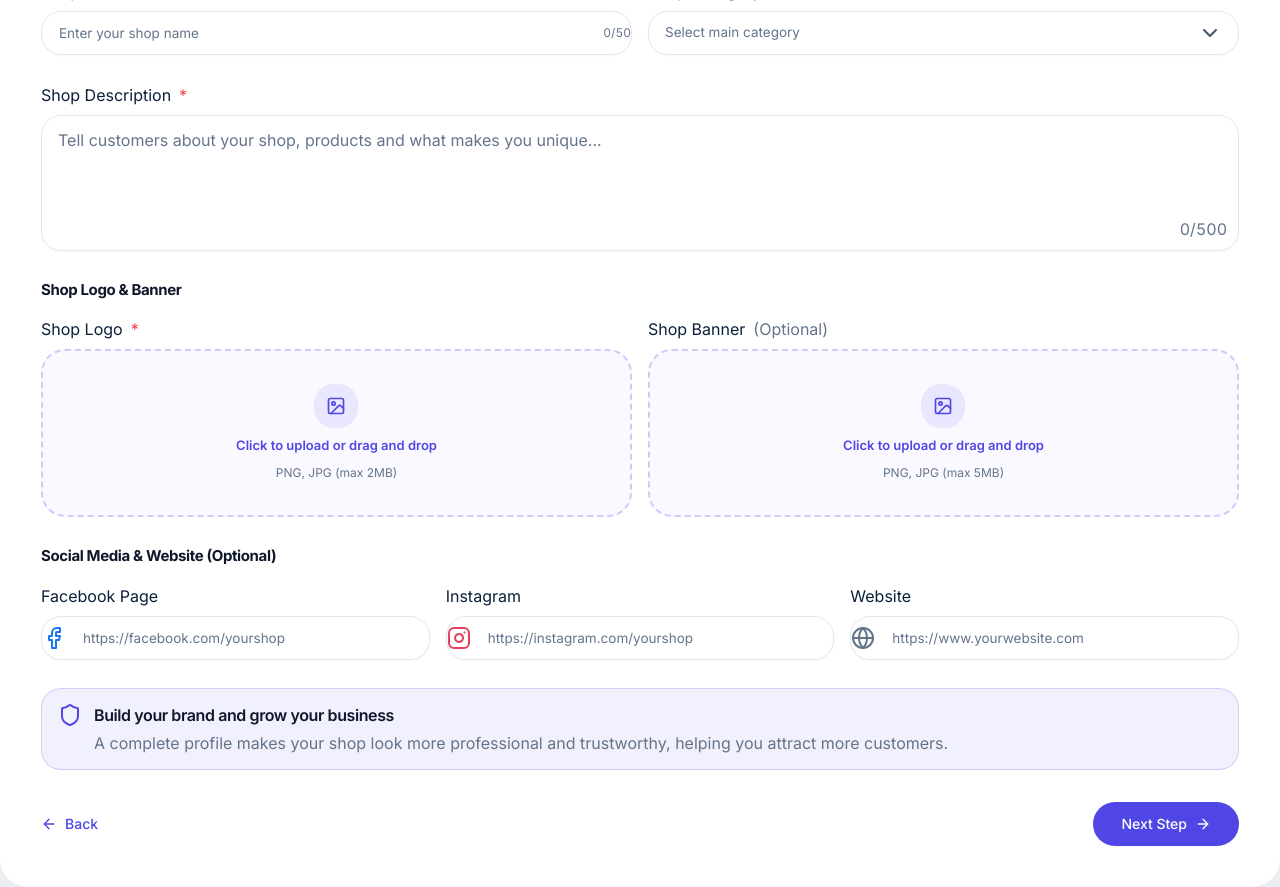
SellerRegisterForm shop details › keeps the user on shop details when required shop fields are empty
(page scrolled)
Click the button "Next Step" at (1166, 824), box [1093,802,1239,846]
(page scrolled)
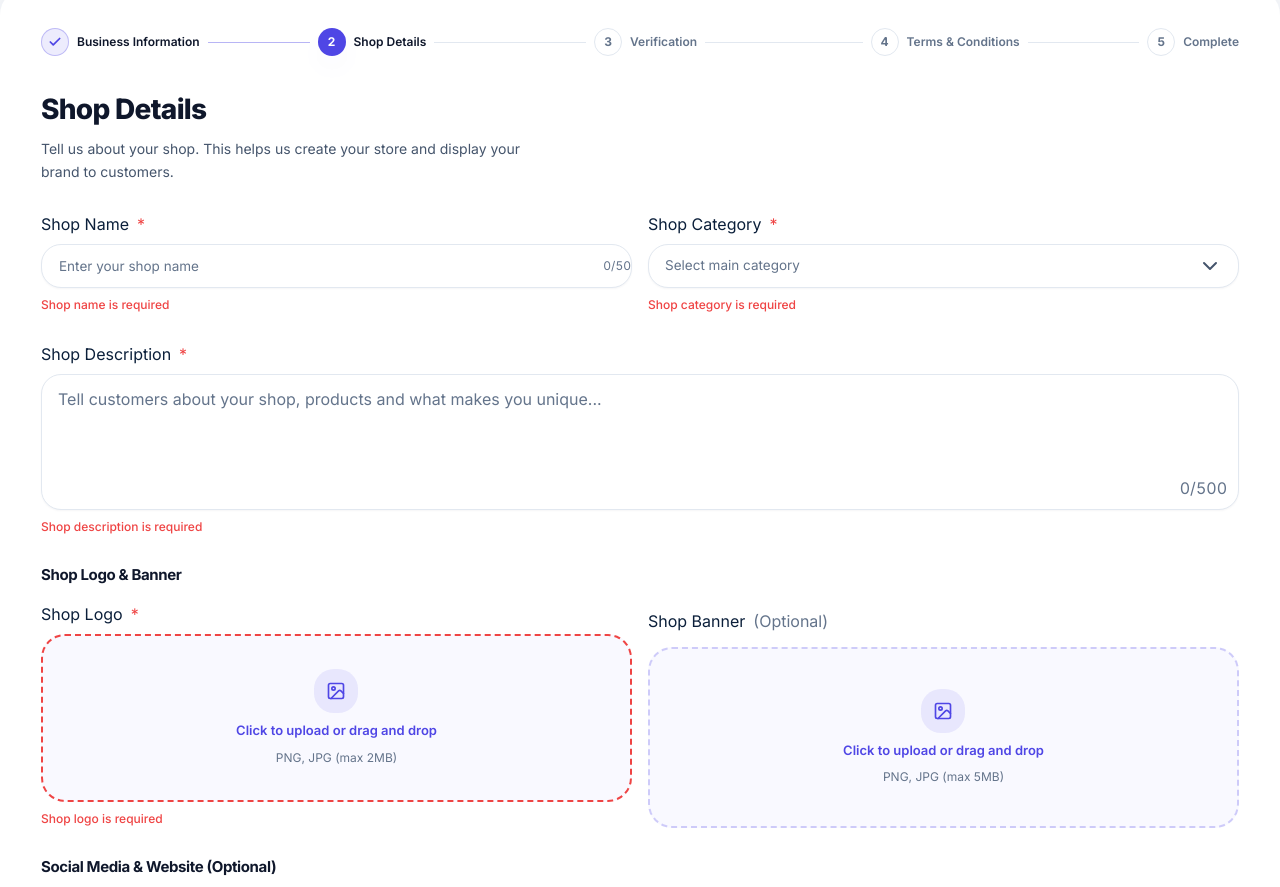
Check: the text "Shop name is required" is shown, box [41,296,170,312]
Check: the text "Shop category is required" is shown, box [648,296,796,312]
Check: the text "Shop description is required" is shown, box [41,518,202,534]
